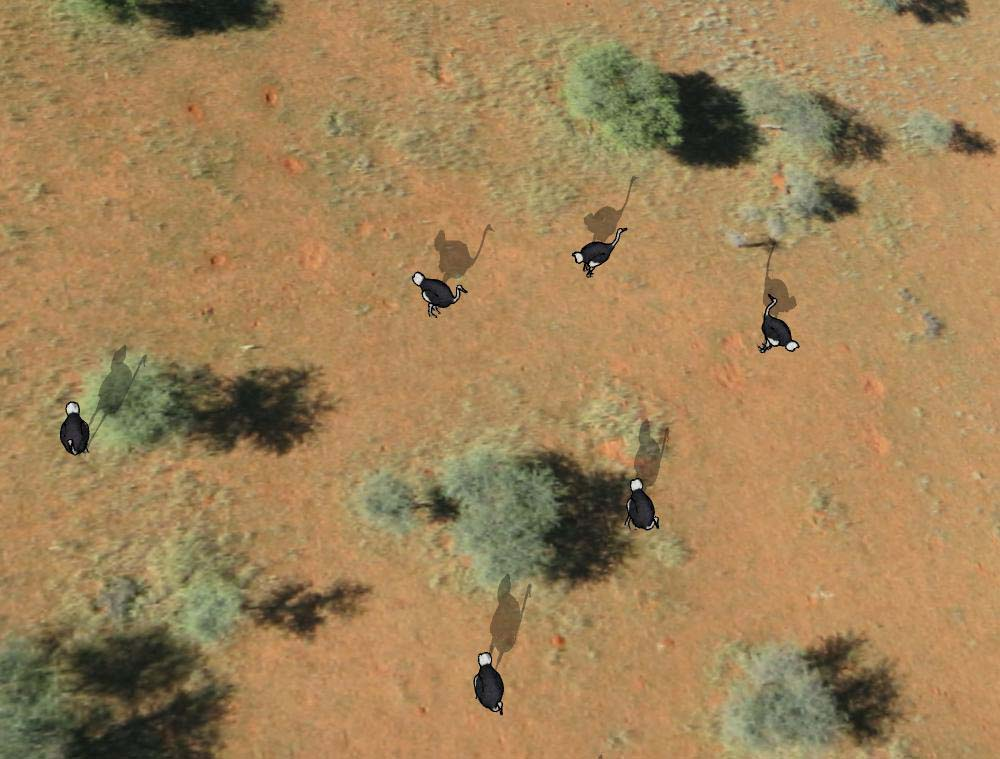springbok: (407, 268, 469, 321), (569, 226, 629, 278), (755, 290, 798, 361), (466, 650, 508, 716), (620, 476, 665, 534), (56, 399, 91, 460)
